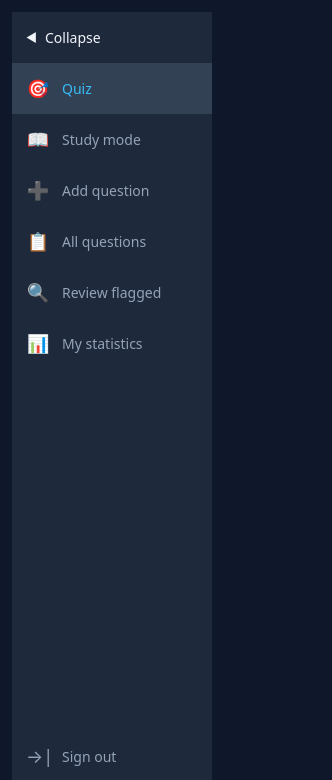
Test case: AppSidebar › expands again when toggle is clicked a second time
Click the button with class "sidebar-toggle". click: [112, 38]
box: left=12, top=12, right=212, bottom=63
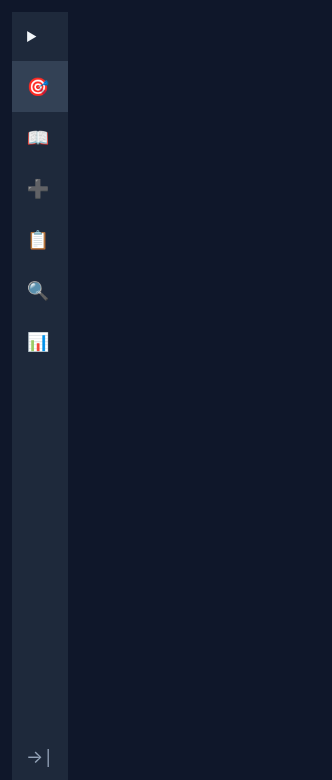
Click the button with class "sidebar-toggle". click: [40, 36]
box: left=12, top=12, right=68, bottom=61
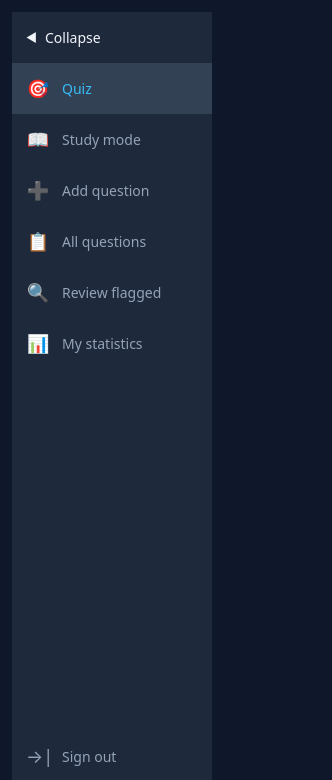
expect the number of elements with class "link-label" is 6: met, box left=62, top=78, right=92, bottom=99; left=62, top=129, right=141, bottom=150; left=62, top=180, right=150, bottom=201; left=62, top=231, right=146, bottom=252; left=62, top=282, right=161, bottom=303; left=62, top=333, right=143, bottom=354
